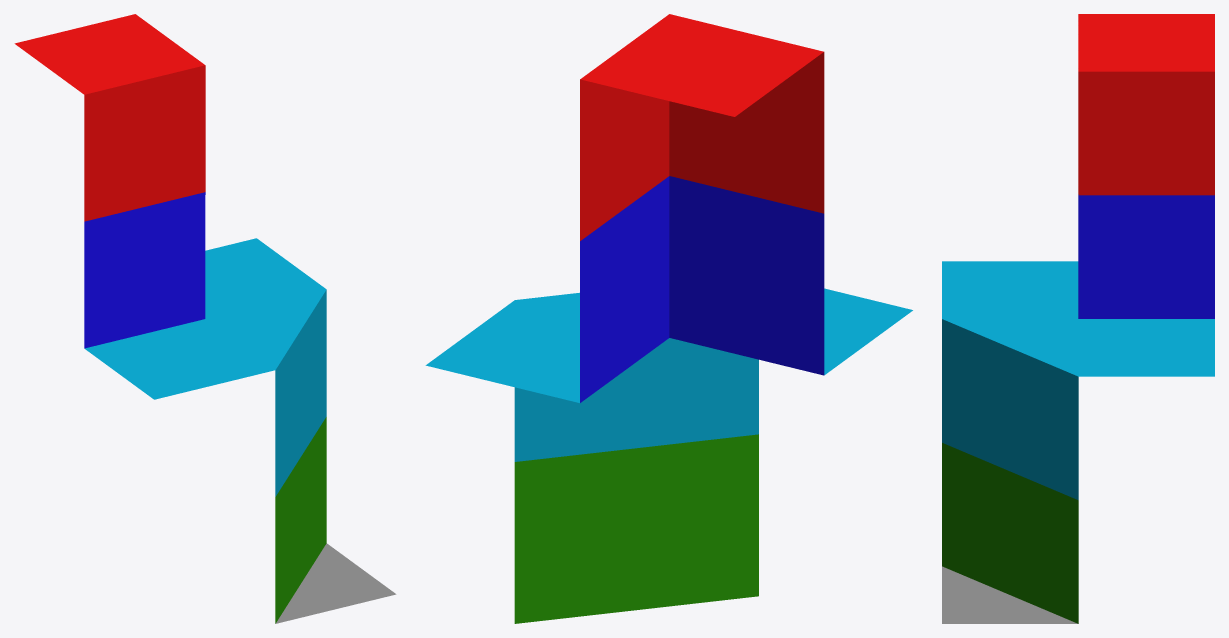
3 views of the same model, side by side, from view 1: azimuth 30°, elevation 25°; view 2: azimuth 150°, elevation 25°; view 3: azimuth 270°, elevation 25° (orthographic). The views are drawn at different scales.
Parts seen in each view (by area): view 1: T_2277_0_0; view 2: T_2277_0_0; view 3: T_2277_0_0.
Part boxes in pixels (box(x1,y1,x2,y2)): T_2277_0_0: box(14, 14, 396, 623); T_2277_0_0: box(425, 14, 912, 623); T_2277_0_0: box(942, 14, 1214, 623).
Size of the model in its own units: 99.79 by 200 by 99.81.
